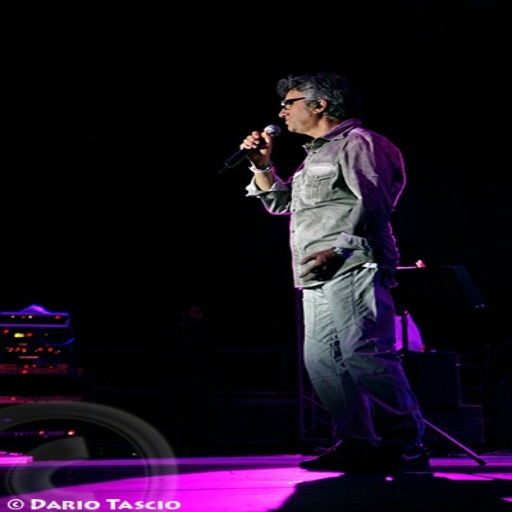hand: (240, 123, 290, 169), (295, 248, 348, 282)
